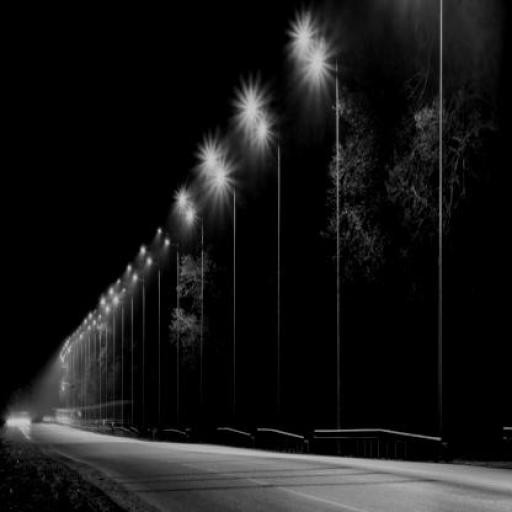acesa: (228, 77, 271, 128), (200, 162, 245, 208), (241, 114, 282, 161), (191, 135, 230, 181), (287, 10, 325, 55), (298, 47, 336, 81), (173, 202, 205, 237), (169, 183, 199, 218), (142, 255, 155, 269), (135, 245, 148, 258), (123, 262, 136, 274), (130, 271, 141, 285), (162, 236, 172, 249), (110, 294, 120, 307), (105, 284, 115, 296), (102, 304, 112, 315), (96, 296, 107, 305), (154, 227, 163, 236), (77, 331, 87, 339), (114, 278, 122, 287), (90, 318, 98, 327), (96, 314, 105, 322), (121, 286, 128, 295), (82, 319, 89, 328), (88, 310, 94, 320)
